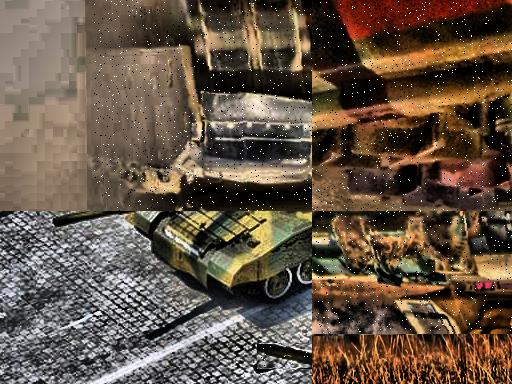tanks: (95, 1, 313, 212), (313, 1, 512, 212), (313, 212, 512, 334), (116, 212, 313, 301), (259, 345, 313, 365)
